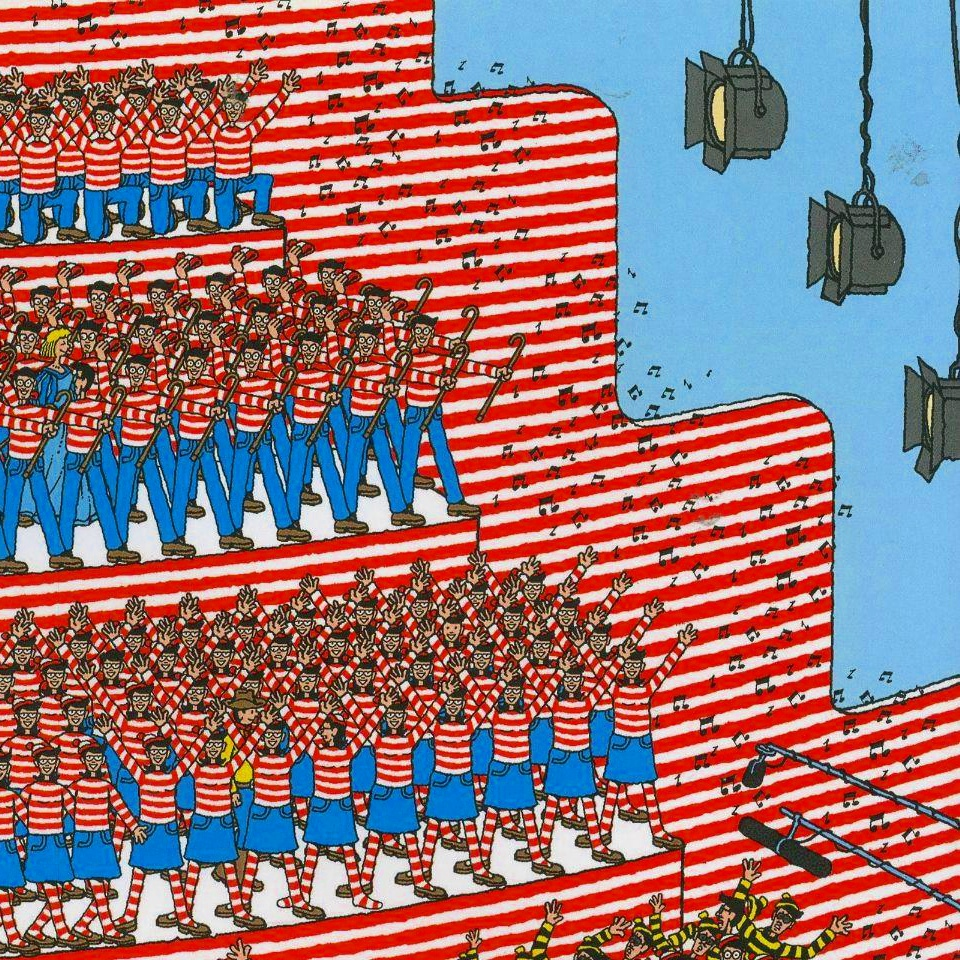waldo: (715, 933, 751, 960), (656, 949, 695, 960), (747, 953, 786, 960)
